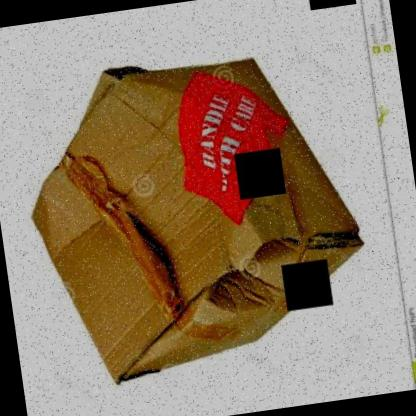box: (14, 34, 379, 390)
